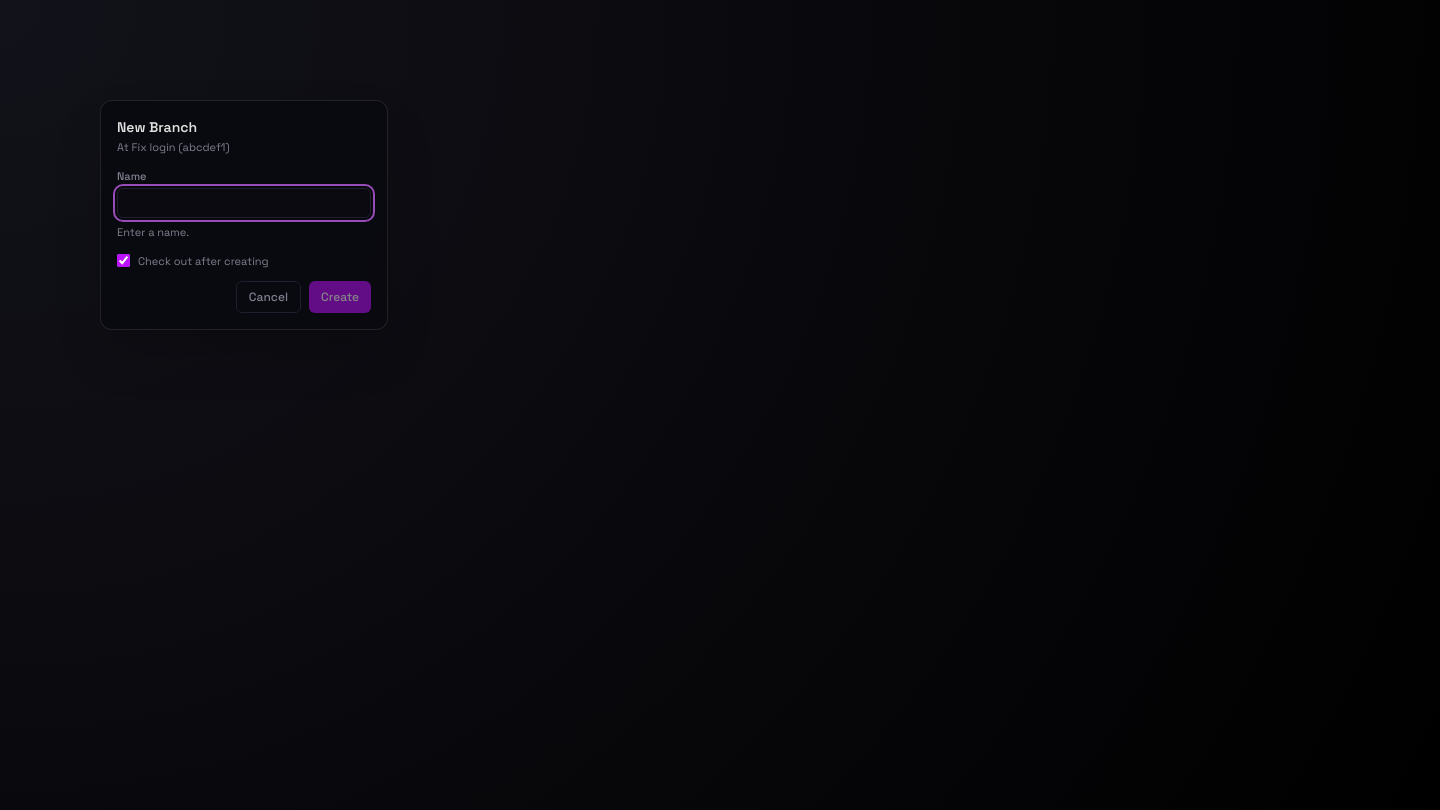
NamePopover › rejects a name that is taken
Type "main" into the field labelled "Name" at (244, 203), box [117,188,371,218]
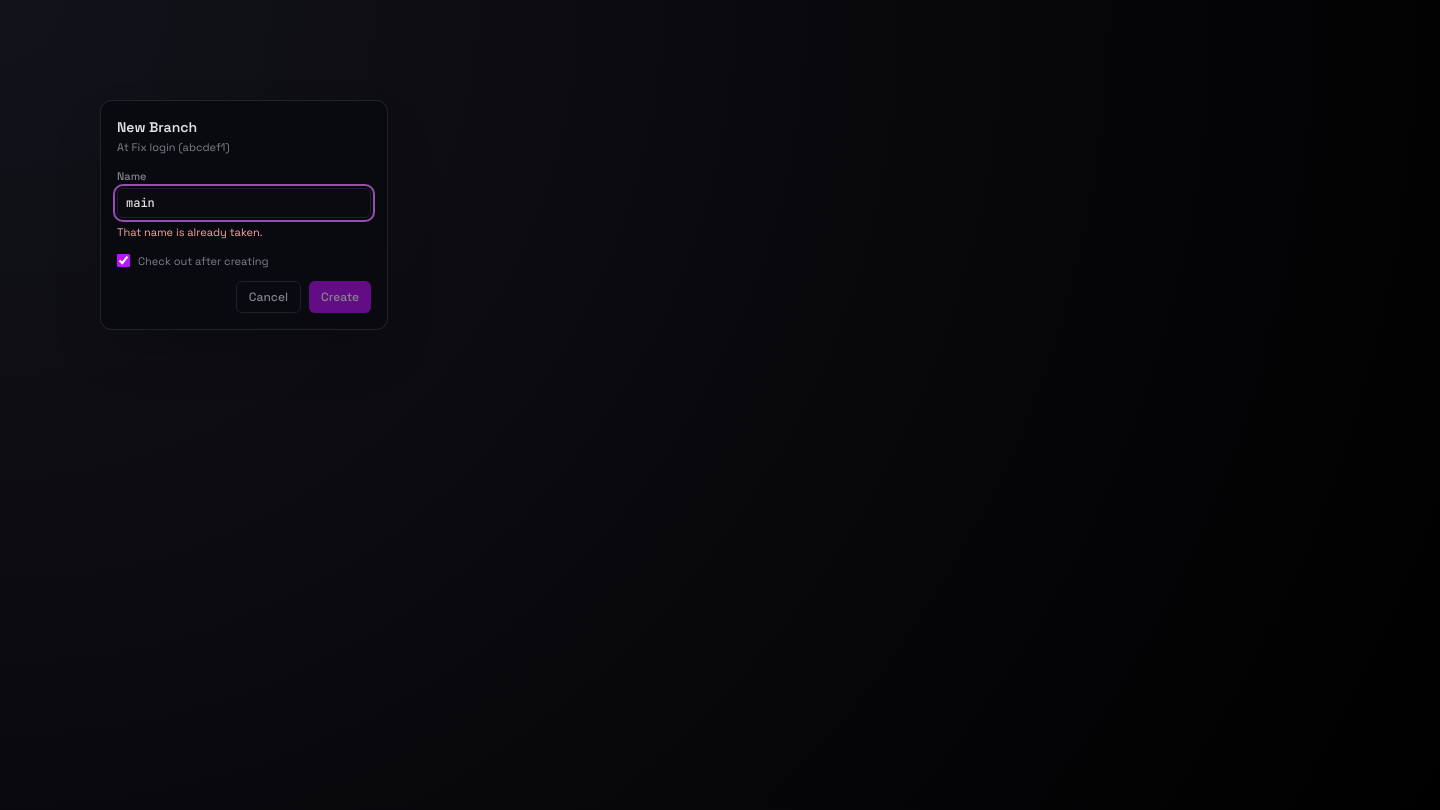
expect the message reads "That name is already taken.": met, box [117,225,263,239]
